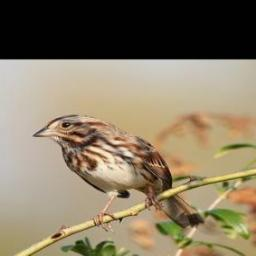Sparrow: (32, 114, 207, 234)
